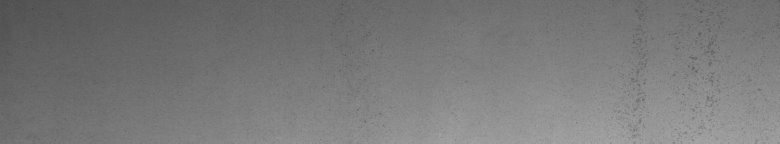ib: (628, 44, 716, 131)
